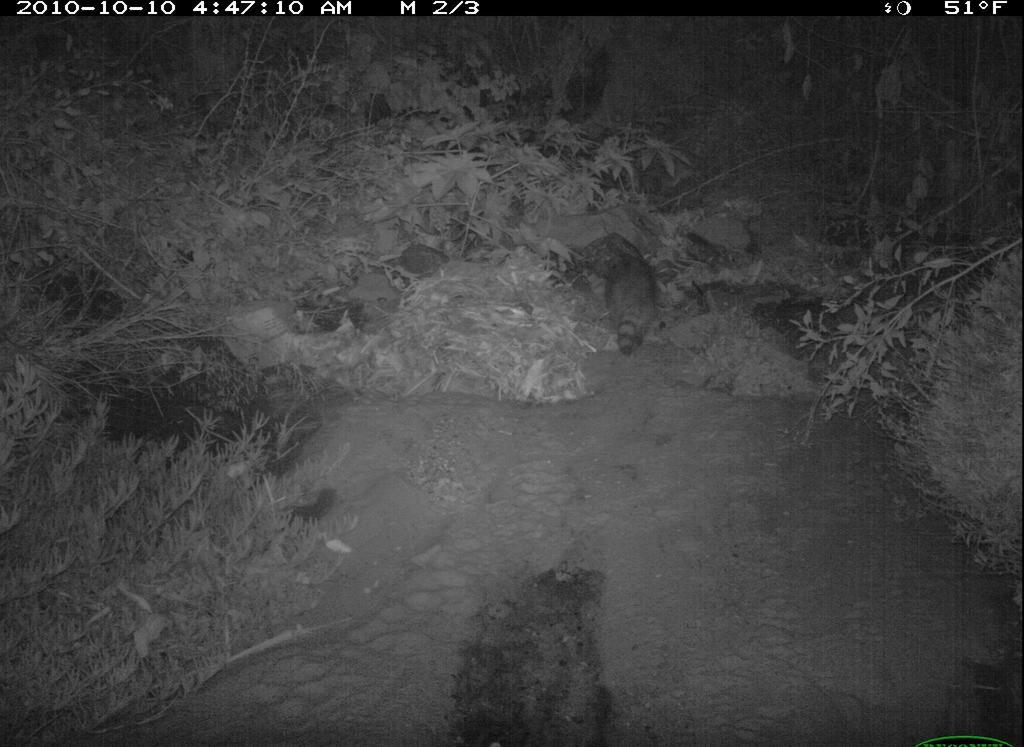raccoon: (596, 233, 670, 363)
